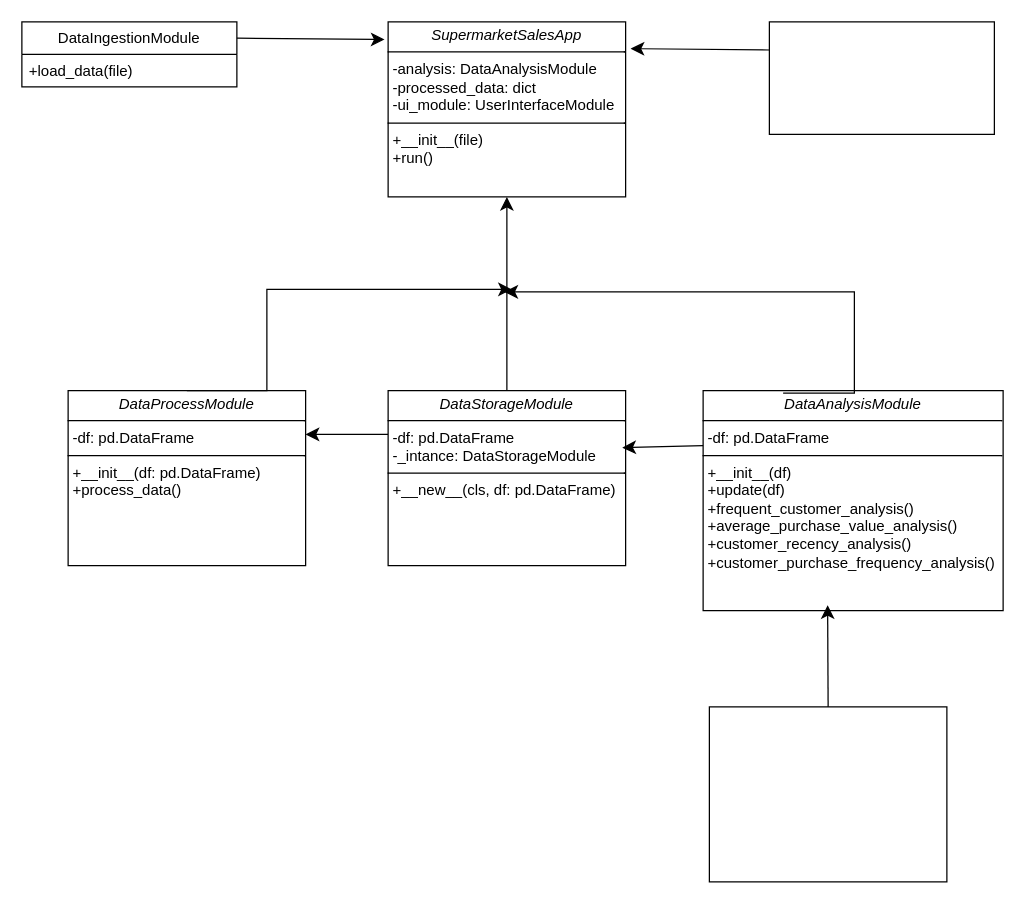
This 1025x904 diagram has some shape labels left out. Here are the shapes that lost their labels. From the top down, the centre of each, then its label:
At point 881,77: "UserInterfaceModule".
At point 827,794: "Observer <<Abstract>> +update(data)".
